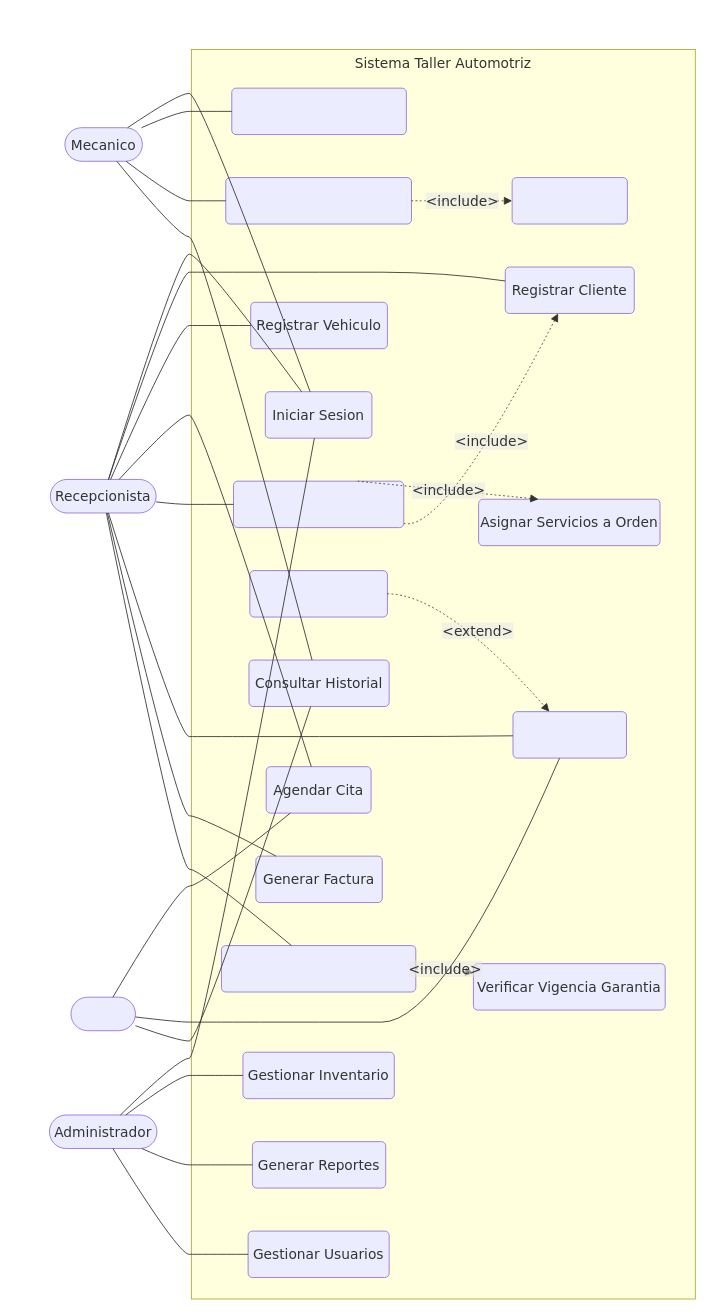
Some shapes in this 710 by 1314 pixel diagram are drawn without their labels. Here are the shapes that lost their labels. From the top down, the centre of each, then its label:
point 318,111: Actualizar Estado Orden
point 318,200: Registrar Uso de Repuesto
point 569,200: Verificar Stock
point 318,504: Crear Orden de Trabajo
point 318,593: Aplicar Promocion
point 569,734: Registrar Pago
point 318,968: Registrar Reclamo Garantia
point 102,1013: Cliente
